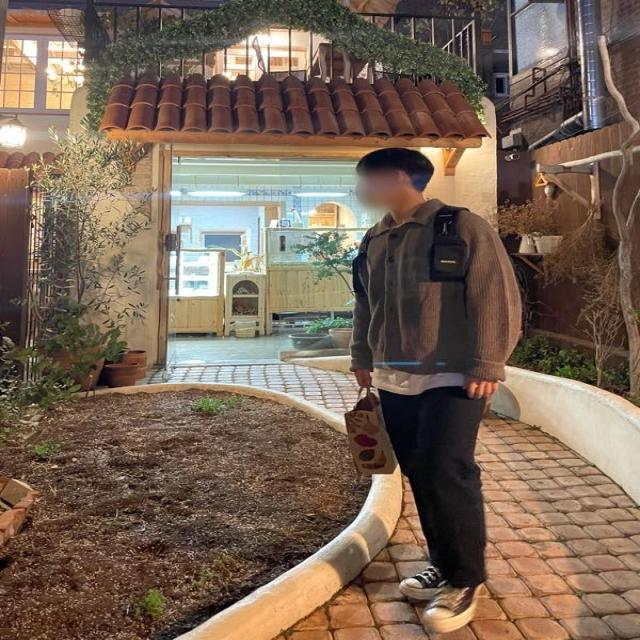cardigan: (346, 202, 526, 382)
denimpants: (376, 369, 493, 586)
